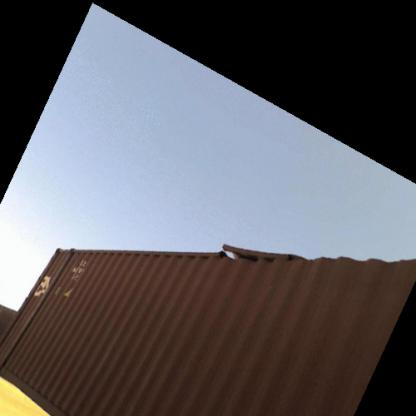Damage: (12, 243, 80, 374), (207, 236, 307, 279)
